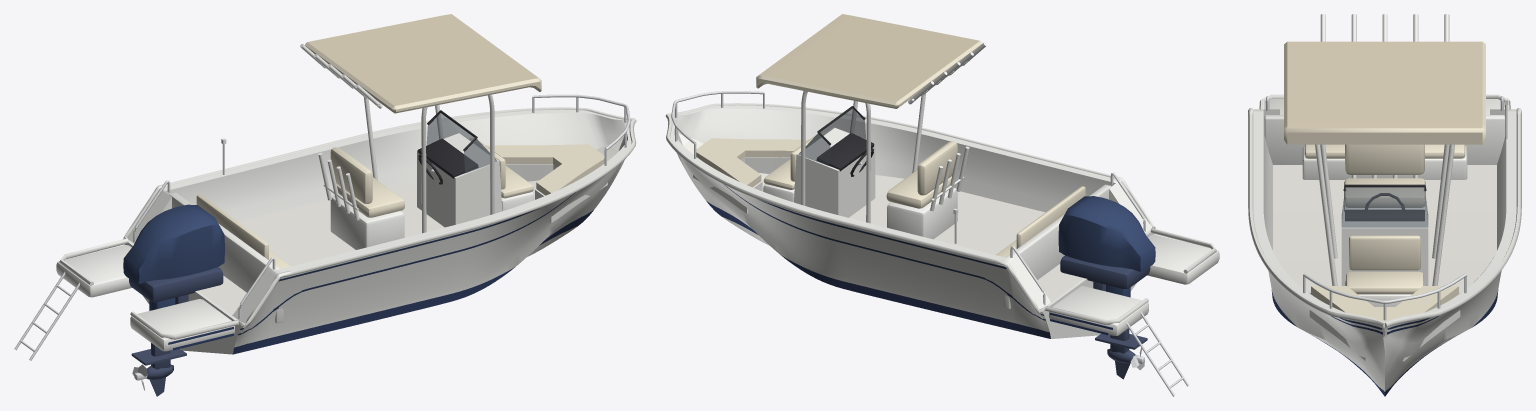
Rendered from boat-grady216.glb.
3 renders of one model, left to right at view 1: azimuth 30°, elevation 25°; view 2: azimuth 150°, elevation 25°; view 3: azimuth 270°, elevation 25°, orthographic. The views are drawn at different scales.
Parts seen in each view (by area): view 1: hull, canopy, outboard_cowl, console, rub_rail_-1, platform_-1, platform_1, post_base, rub_rail_1, transom_wall, outboard_apron, bow_cushion_fwd (+11 smaller); view 2: hull, canopy, outboard_cowl, console, rub_rail_1, platform_1, platform_-1, post_base, rub_rail_-1, transom_wall, outboard_apron, bow_cushion_fwd (+11 smaller); view 3: hull, canopy, windshield, console_seat_back, transom_wall, post_back, console, post_seat, rub_rail_-1, rub_rail_1, transom_bench, console_seat_cushion (+10 smaller).
Part boxes in pixels (<box>): hull: <box>123,109,631,354</box>; canopy: <box>305,14,541,113</box>; outboard_cowl: <box>123,204,224,284</box>; console: <box>417,133,502,227</box>; rub_rail_-1: <box>130,118,636,339</box>; platform_-1: <box>130,299,234,351</box>; platform_1: <box>56,245,131,297</box>; post_base: <box>330,196,404,249</box>; rub_rail_1: <box>59,107,634,285</box>; transom_wall: <box>169,192,283,323</box>; outboard_apron: <box>129,267,223,302</box>; bow_cushion_fwd: <box>537,144,604,179</box>; hull: <box>670,105,1155,338</box>; canopy: <box>756,14,982,108</box>; outboard_cowl: <box>1058,196,1155,271</box>; console: <box>794,127,875,217</box>; rub_rail_1: <box>665,114,1148,324</box>; platform_1: <box>1049,286,1148,335</box>; platform_-1: <box>1147,234,1219,284</box>; post_base: <box>887,188,957,239</box>; rub_rail_-1: <box>667,103,1216,273</box>; transom_wall: <box>1002,184,1111,309</box>; outboard_apron: <box>1060,255,1150,289</box>; bow_cushion_fwd: <box>696,138,760,172</box>; hull: <box>1253,109,1516,396</box>; canopy: <box>1284,41,1485,144</box>; windshield: <box>1341,187,1428,227</box>; console_seat_back: <box>1349,235,1420,270</box>; transom_wall: <box>1264,115,1505,164</box>; post_back: <box>1345,144,1424,174</box>; console: <box>1341,212,1428,285</box>; post_seat: <box>1344,178,1425,207</box>; rub_rail_-1: <box>1248,94,1385,327</box>; rub_rail_1: <box>1384,94,1521,327</box>; transom_bench: <box>1302,145,1467,179</box>; console_seat_cushion: <box>1346,271,1423,294</box>.
Size of the model in its own units: 7.23 by 3.48 by 2.66.
